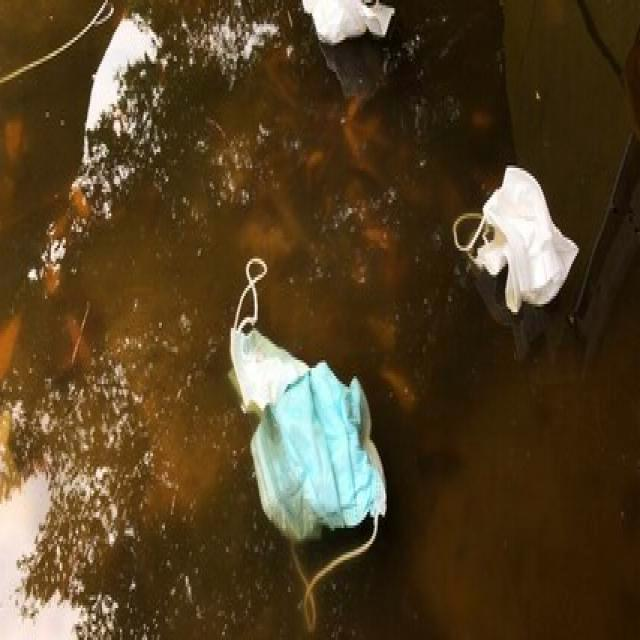Trash: (220, 253, 391, 635), (450, 162, 578, 318), (81, 12, 167, 211), (292, 0, 398, 53)
